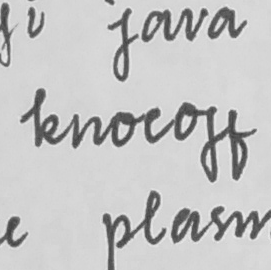c: (142, 105, 166, 145)
f: (197, 104, 221, 185), (224, 107, 249, 183)
k: (30, 84, 64, 151)
n: (71, 112, 103, 149)
o: (170, 100, 200, 142), (109, 109, 138, 148)
